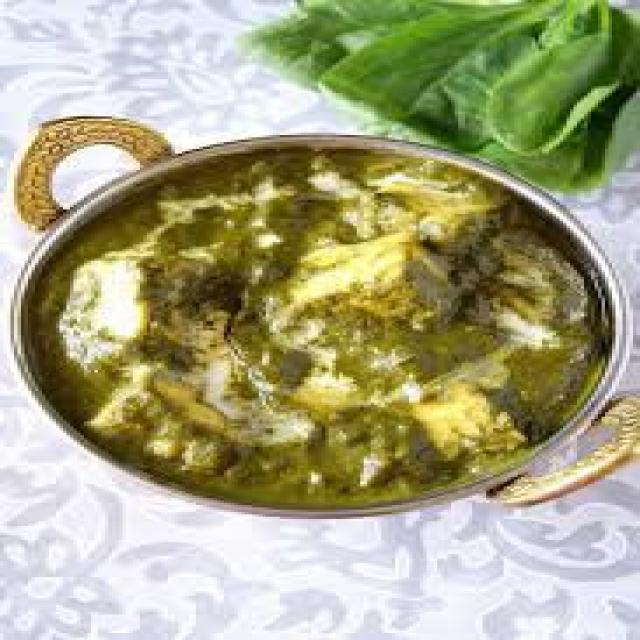Palak Paneer: (30, 146, 606, 512)
